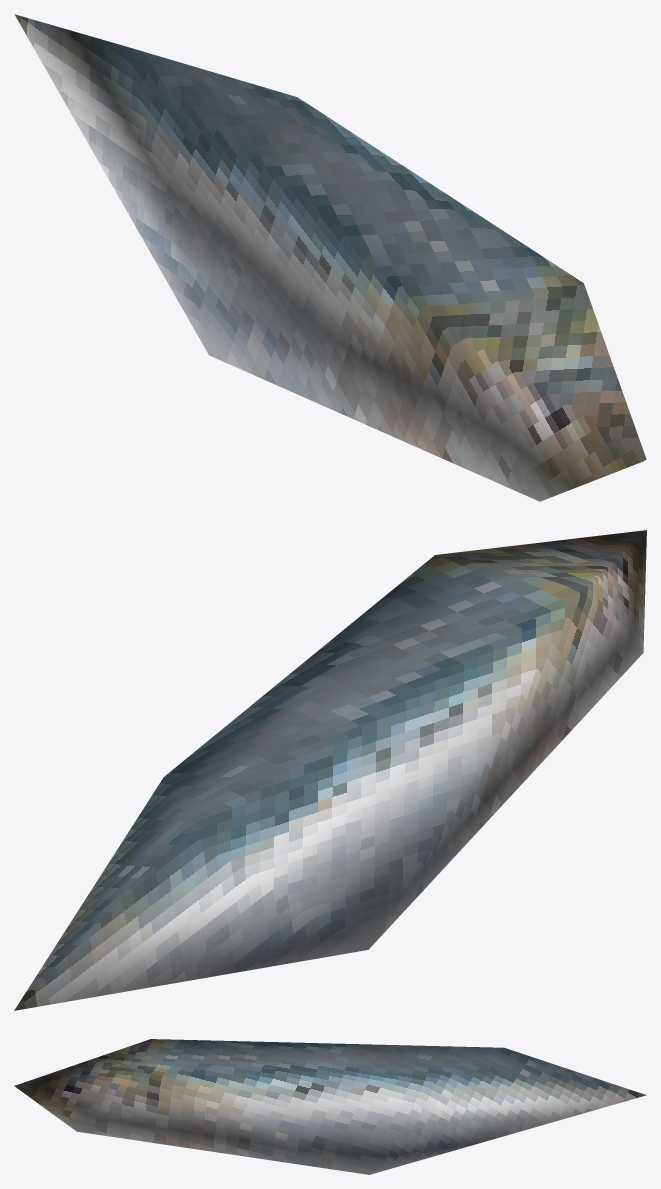
File: boidModel_lod.glb
3 renders of one model, top to bottom at view 1: azimuth 30°, elevation 25°; view 2: azimuth 150°, elevation 25°; view 3: azimuth 270°, elevation 25°, orthographic. The views are drawn at different scales.
Visible parts, largest first — view 1: Cube.002; view 2: Cube.002; view 3: Cube.002.
Part boxes in pixels (<box>): Cube.002: <box>14,14,646,501</box>; Cube.002: <box>14,530,646,1010</box>; Cube.002: <box>14,1039,646,1174</box>.
Size of the model in its own units: 0.0627 by 0.0749 by 0.4292.
1 material, 1 textured.
